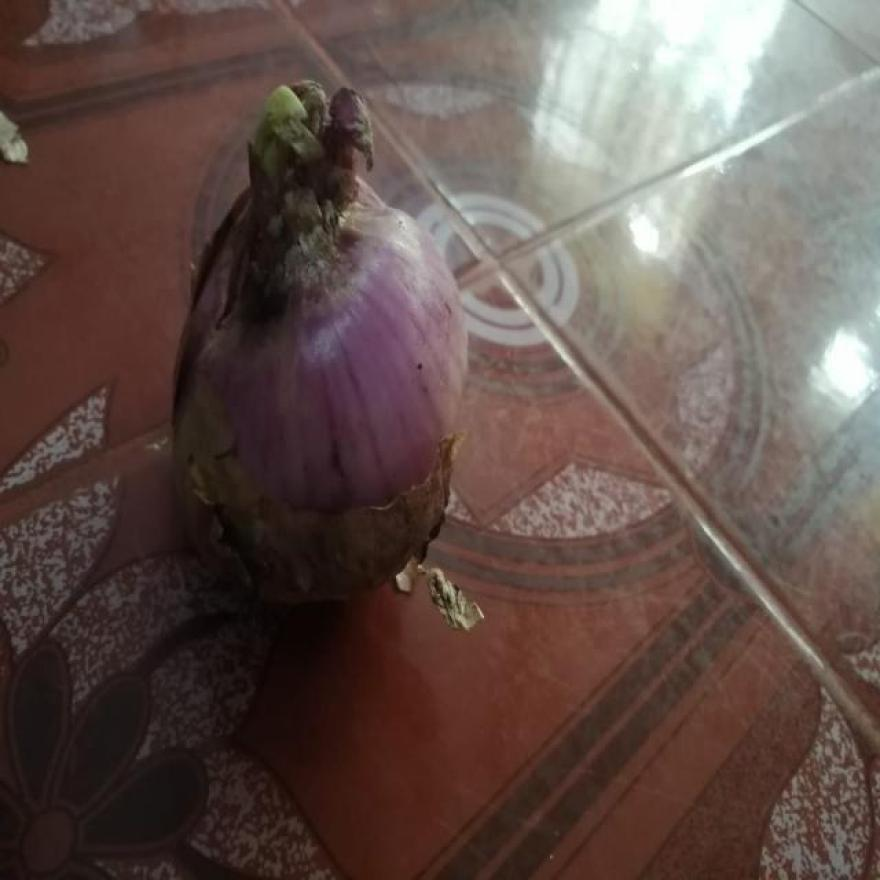Rotten: (254, 88, 330, 238)
